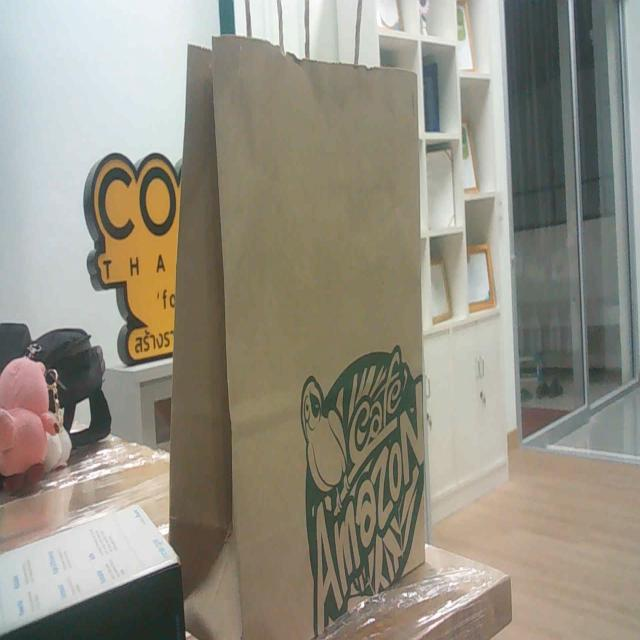bag: (162, 36, 461, 640)
